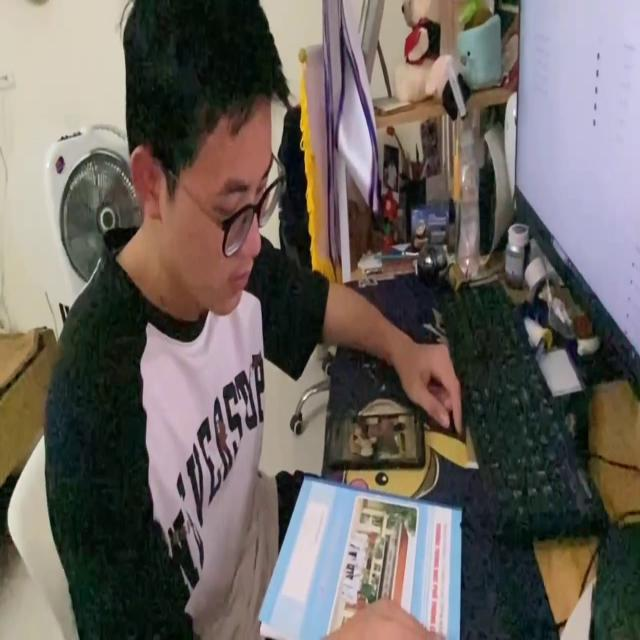book: (254, 473, 462, 640)
laptop: (511, 0, 640, 390)
phone: (321, 408, 426, 471)
student: (43, 0, 464, 640)
